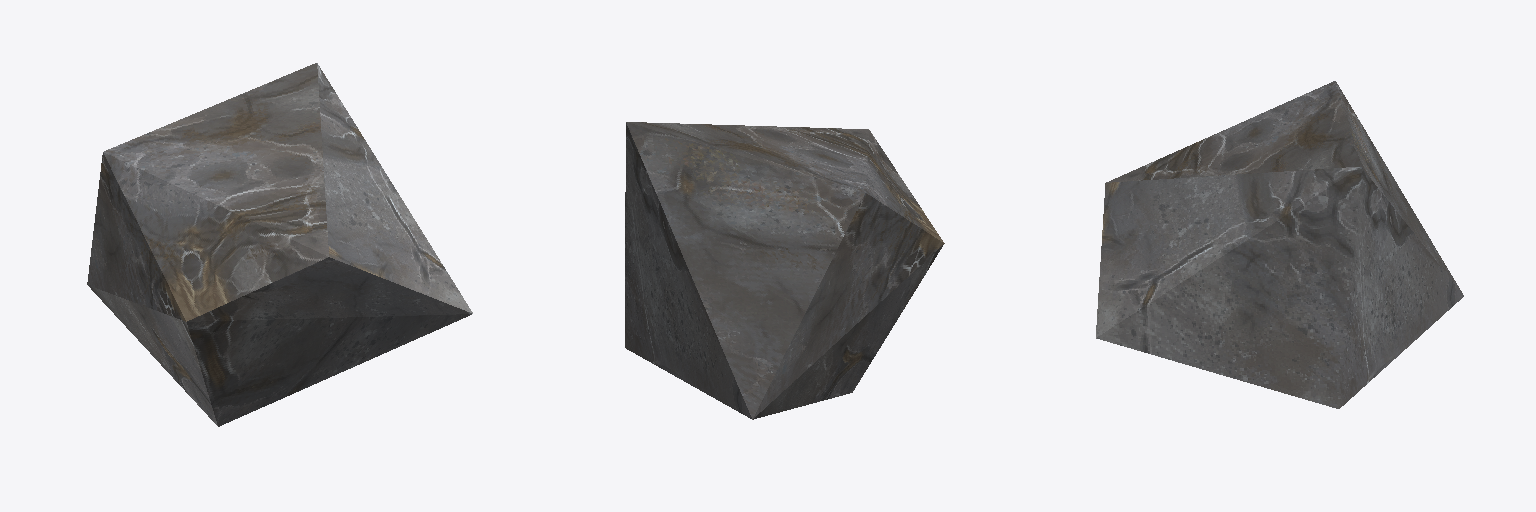
3 views of the same model, side by side, from view 1: azimuth 30°, elevation 25°; view 2: azimuth 150°, elevation 25°; view 3: azimuth 270°, elevation 25° (orthographic).
Parts seen in each view (by area): view 1: Mesh_rock_low.002_Group583_Mesh_rock_low.002_Group583_rock01; view 2: Mesh_rock_low.002_Group583_Mesh_rock_low.002_Group583_rock01; view 3: Mesh_rock_low.002_Group583_Mesh_rock_low.002_Group583_rock01.
Boxes of the visible parts, box(x1,y1,x2,y2) form: Mesh_rock_low.002_Group583_Mesh_rock_low.002_Group583_rock01: box(87, 63, 472, 426); Mesh_rock_low.002_Group583_Mesh_rock_low.002_Group583_rock01: box(625, 122, 944, 419); Mesh_rock_low.002_Group583_Mesh_rock_low.002_Group583_rock01: box(1096, 81, 1463, 408).
Size of the model in its own units: 1.38 by 1.46 by 1.76.
Materials: 1 (1 with a texture image).